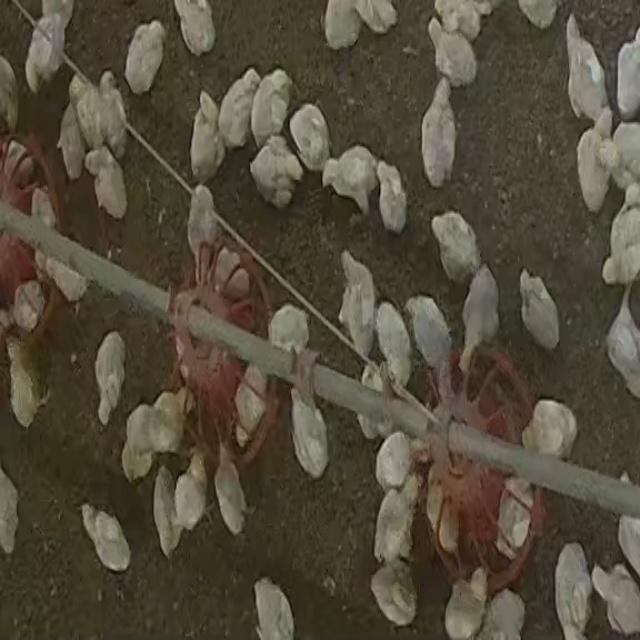chicken: (566, 17, 608, 126), (458, 267, 500, 376), (338, 250, 379, 360), (406, 291, 452, 384), (320, 146, 379, 217), (420, 78, 457, 190), (24, 6, 72, 92), (605, 282, 640, 398), (249, 134, 303, 208), (429, 210, 481, 286), (267, 304, 312, 388), (372, 483, 417, 567), (290, 387, 330, 481), (216, 68, 260, 153), (589, 558, 638, 634), (6, 339, 46, 431), (80, 503, 132, 572), (520, 399, 578, 460), (518, 268, 560, 352), (374, 300, 412, 392), (601, 200, 640, 289), (554, 544, 592, 635), (189, 90, 225, 184), (250, 70, 292, 150), (122, 403, 163, 482), (93, 331, 127, 426), (85, 148, 131, 218), (369, 560, 417, 627), (124, 20, 167, 94), (288, 101, 332, 173), (207, 239, 252, 309), (431, 22, 478, 88), (576, 122, 610, 213), (72, 72, 110, 153), (352, 363, 390, 443), (23, 186, 57, 275), (212, 451, 246, 535), (495, 483, 534, 556), (98, 71, 130, 159), (187, 184, 220, 264), (173, 459, 207, 536), (234, 369, 268, 444), (444, 578, 486, 638), (56, 100, 86, 184), (614, 27, 640, 122), (478, 587, 525, 639), (146, 397, 186, 458), (374, 428, 414, 489), (253, 578, 293, 638), (172, 2, 216, 56), (377, 160, 408, 235), (609, 121, 640, 196), (42, 252, 88, 302), (152, 468, 177, 556), (322, 0, 363, 50), (11, 282, 46, 335), (172, 290, 202, 350), (1, 138, 34, 192), (434, 493, 461, 555), (185, 448, 208, 493)
